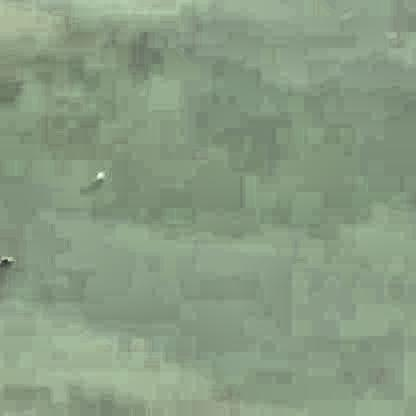golfball: (93, 169, 104, 180)
